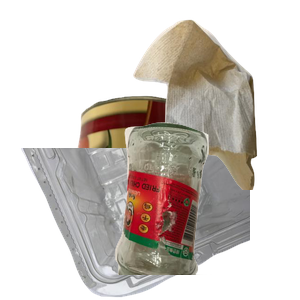glass: (112, 120, 300, 300)
metal: (69, 93, 265, 273)
plastic: (19, 148, 259, 300)
trash: (131, 17, 300, 197)
